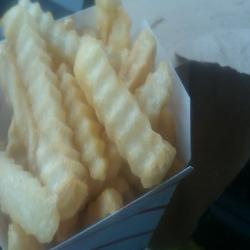fries: (5, 7, 180, 236)
